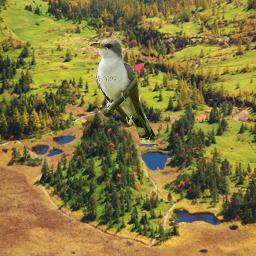Cuckoo: (89, 37, 156, 144)
